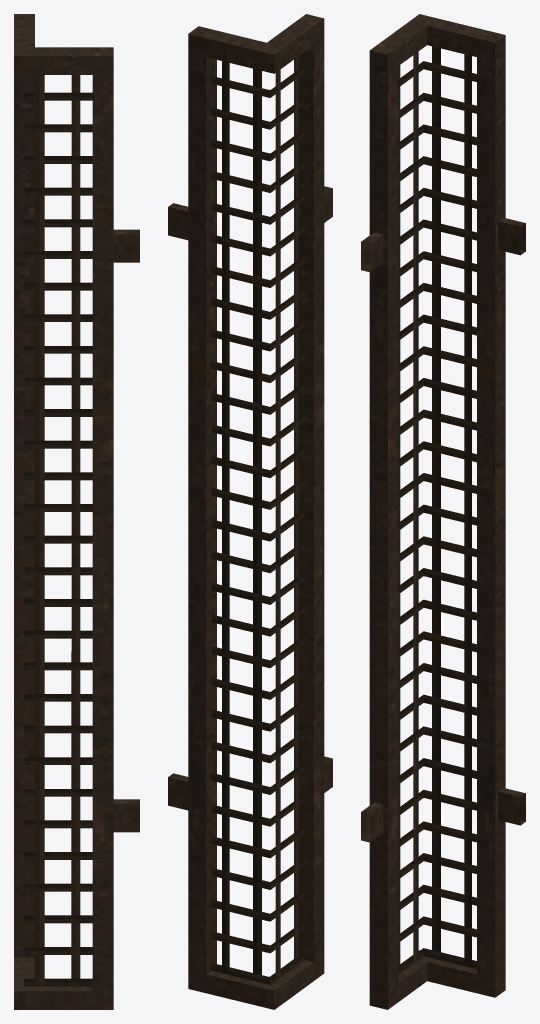
Rendered from fence_e_pillar_1_corner.glb.
3 views of the same model, side by side, from view 1: azimuth 90°, elevation 25°; view 2: azimuth 150°, elevation 25°; view 3: azimuth 330°, elevation 25° (orthographic).
Visible parts, largest first — view 1: fence_e_pillar_1_corner; view 2: fence_e_pillar_1_corner; view 3: fence_e_pillar_1_corner.
Part boxes in pixels (x1=…): fence_e_pillar_1_corner: x1=14, y1=14, x2=139, y2=1009; fence_e_pillar_1_corner: x1=168, y1=14, x2=332, y2=1009; fence_e_pillar_1_corner: x1=361, y1=14, x2=525, y2=1009.
Size of the model in its own units: 0.24 by 2.01 by 0.24.
2 materials, 2 textured.
